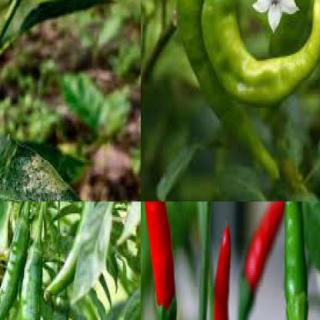green_chilli: (168, 0, 281, 188), (201, 0, 319, 112), (42, 202, 112, 303), (0, 213, 32, 319), (282, 202, 310, 319), (22, 246, 46, 319)
